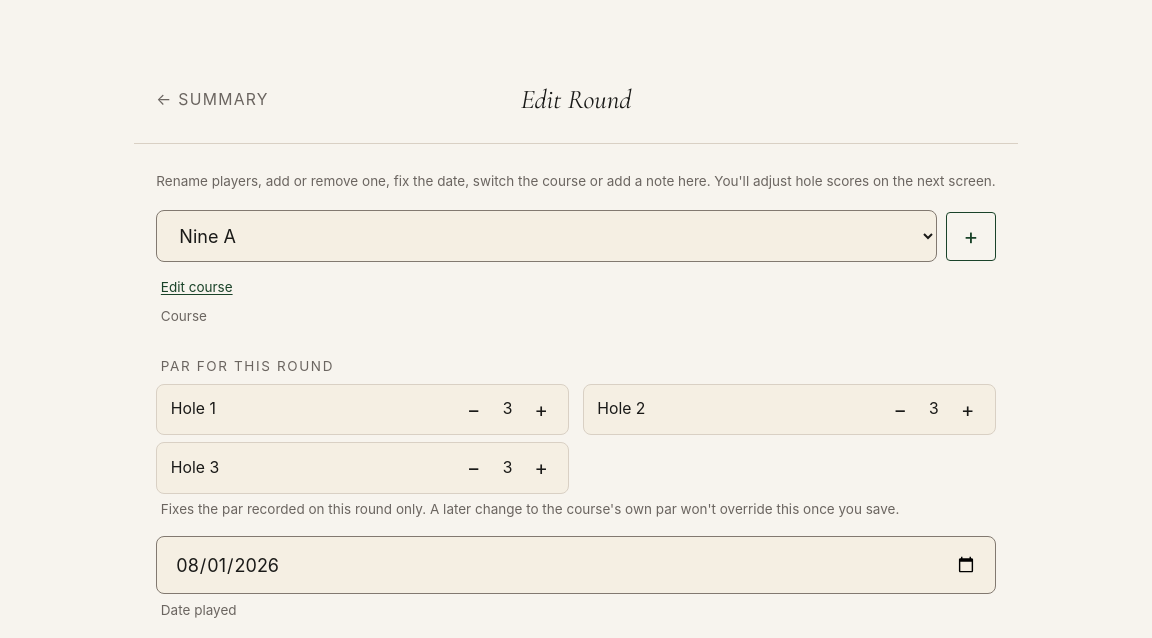
Test: Setup - editing a round can now change its course/hole count (#56 reversed) › "+ New course" mid-edit offers the same 9/18 hole-count picker as a new round
Click the button named "new course" at {"x": 971, "y": 236}, box [946,212,996,261]
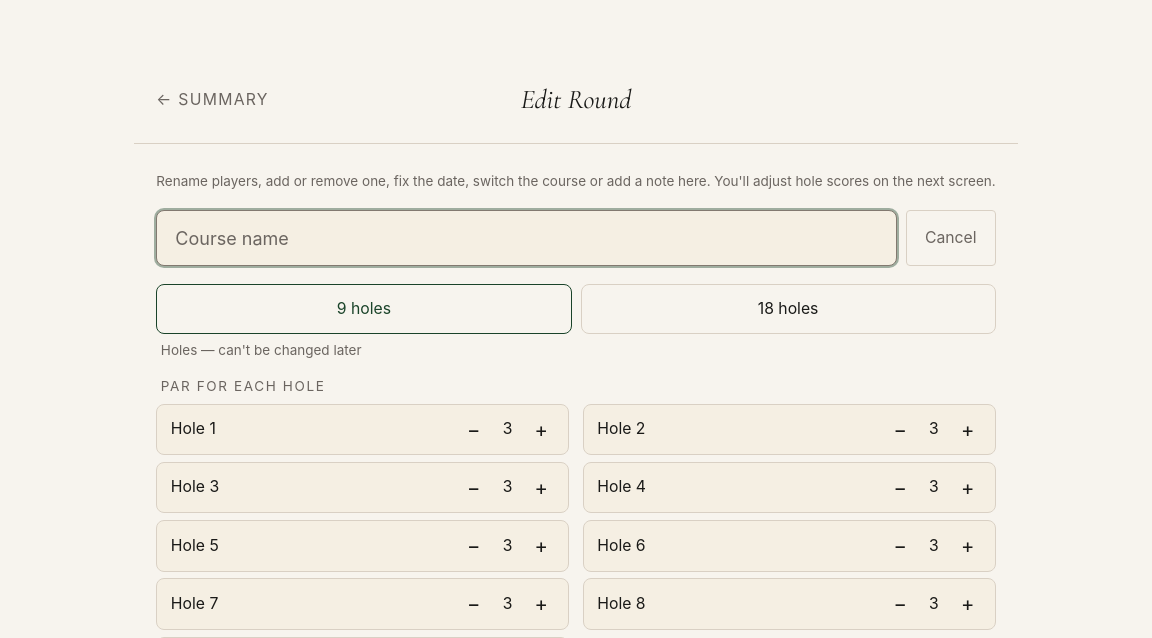
expect the element named "Number of holes on this course" is shown: met, box [156,284,996,334]
